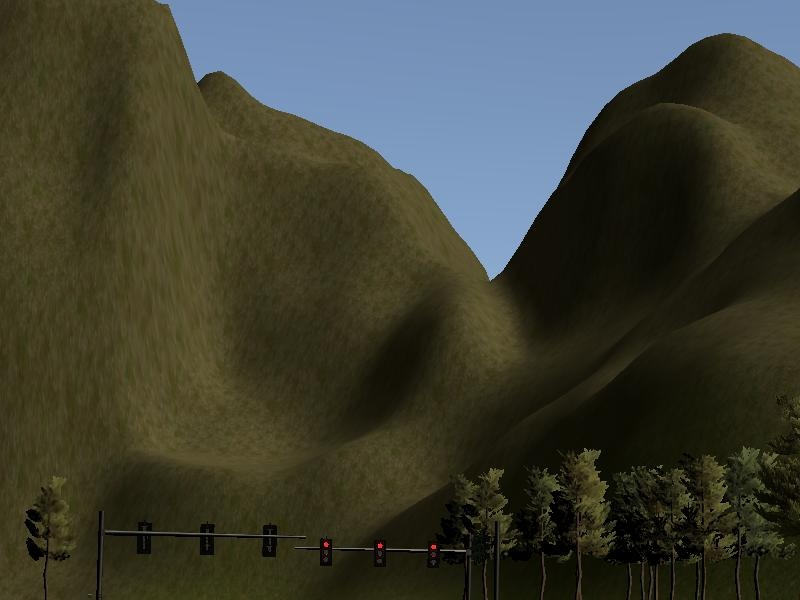red: (374, 539, 387, 568), (427, 541, 440, 568), (320, 538, 332, 566)
